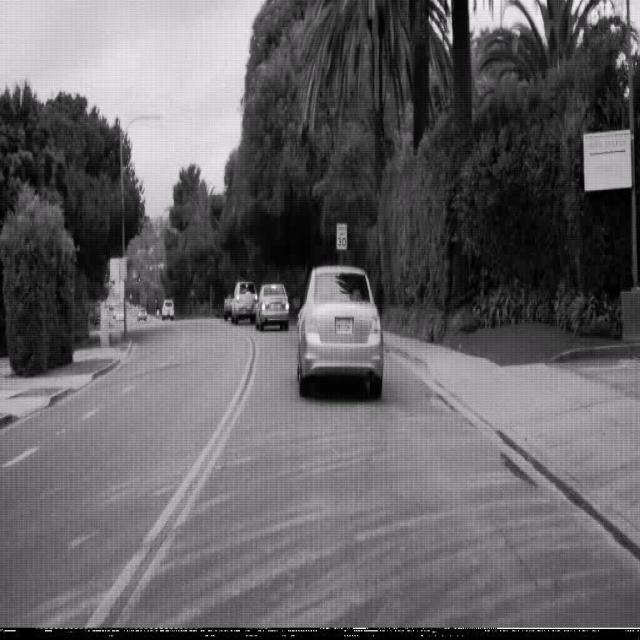speedLimit30: (336, 222, 348, 250)
